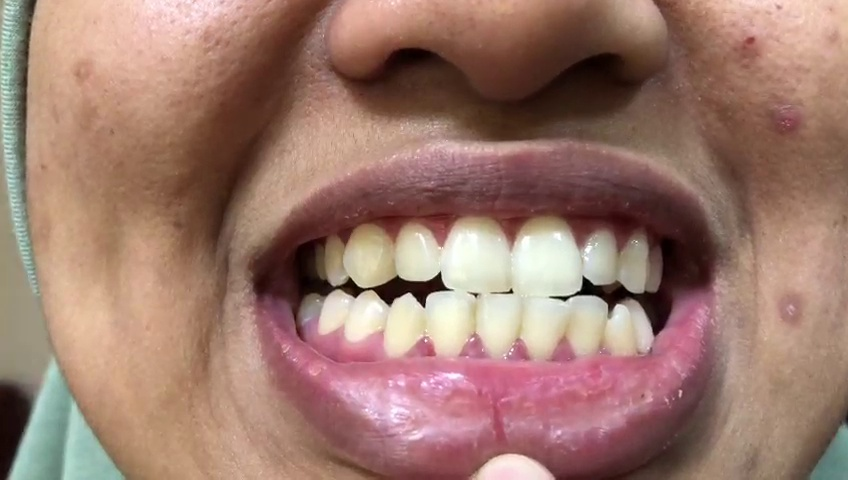1st Molar: (296, 289, 322, 331)
1st Premolar: (346, 288, 388, 346), (622, 298, 653, 354), (325, 234, 348, 287), (648, 243, 664, 293)
2nd Premolar: (318, 291, 354, 341)
Canine: (344, 223, 393, 286), (385, 295, 424, 362), (604, 305, 639, 359), (619, 226, 647, 292)
Central Incisor: (439, 214, 517, 294), (513, 210, 584, 297), (520, 294, 568, 359), (476, 293, 522, 359)
Lateral Incisor: (425, 291, 476, 361), (565, 293, 608, 361), (394, 225, 441, 282), (581, 219, 619, 286)
